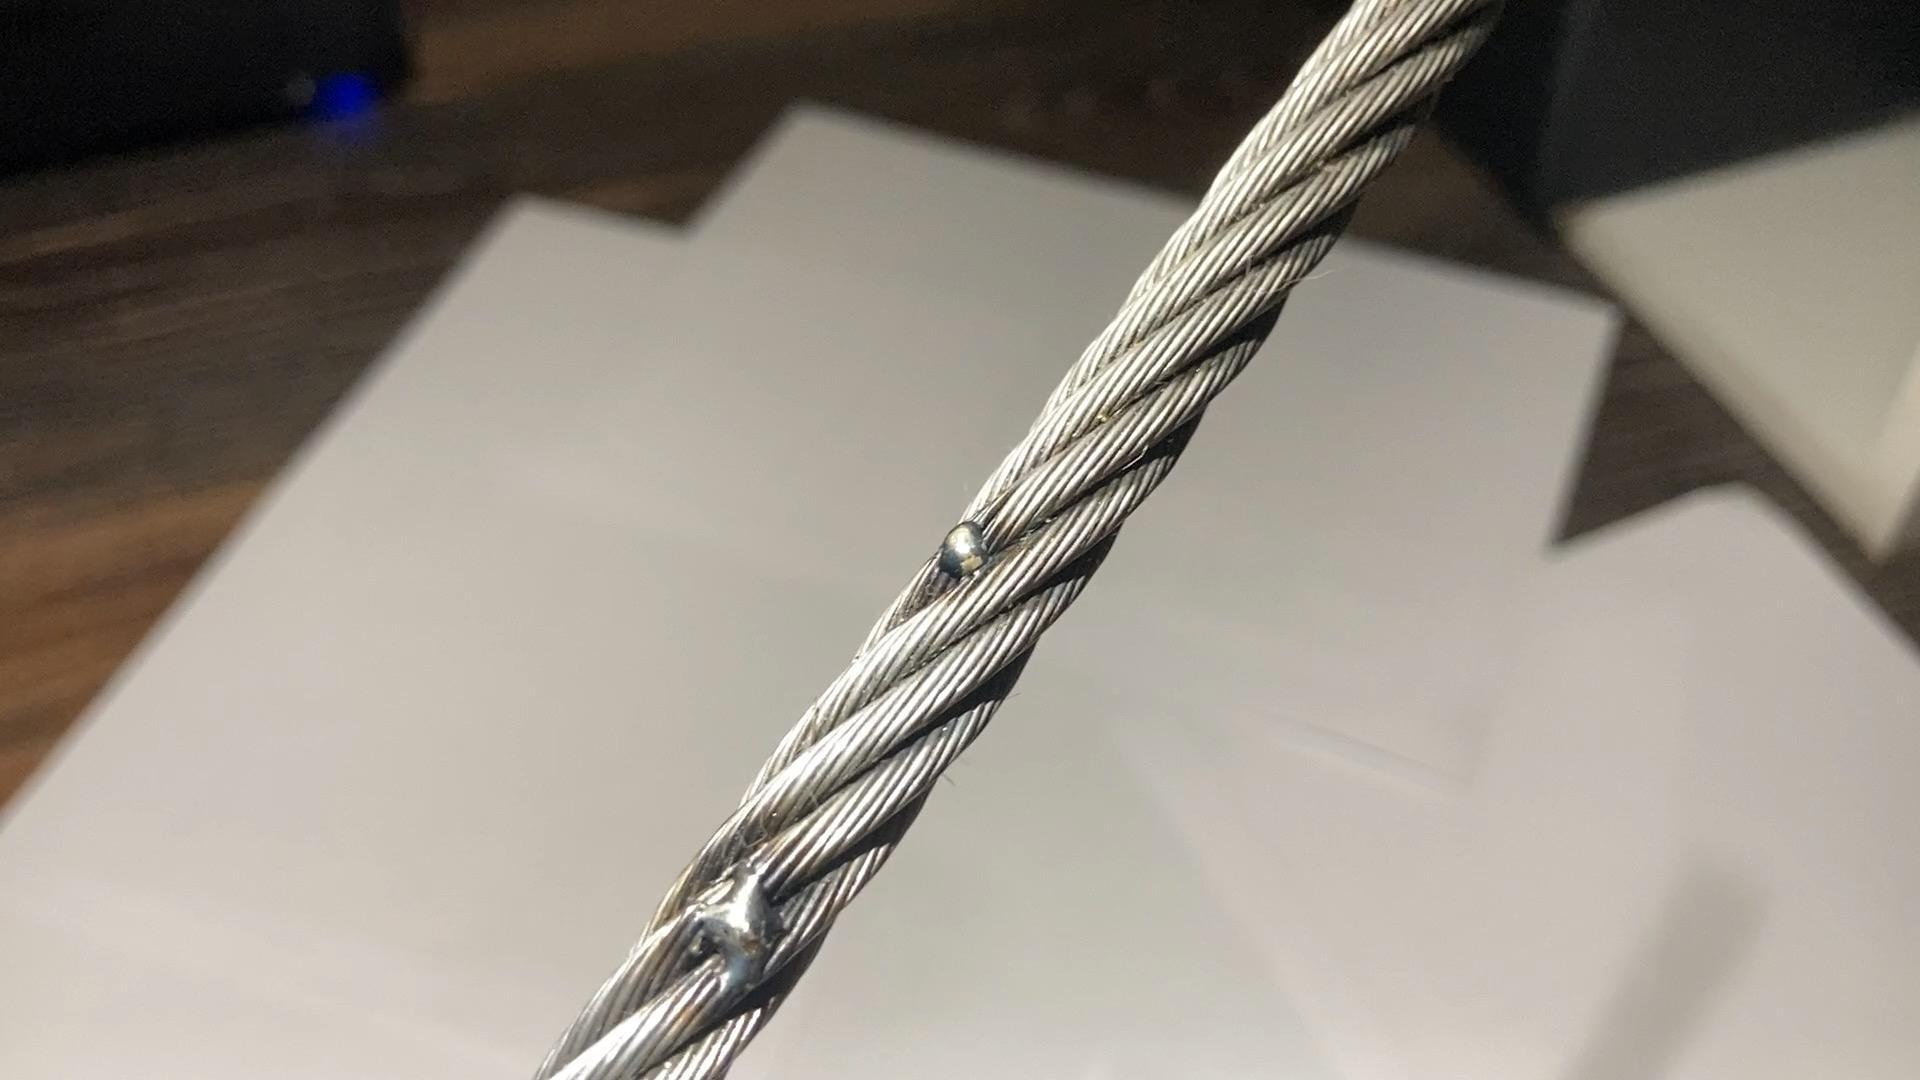thunderbolt: (691, 866, 807, 990)
